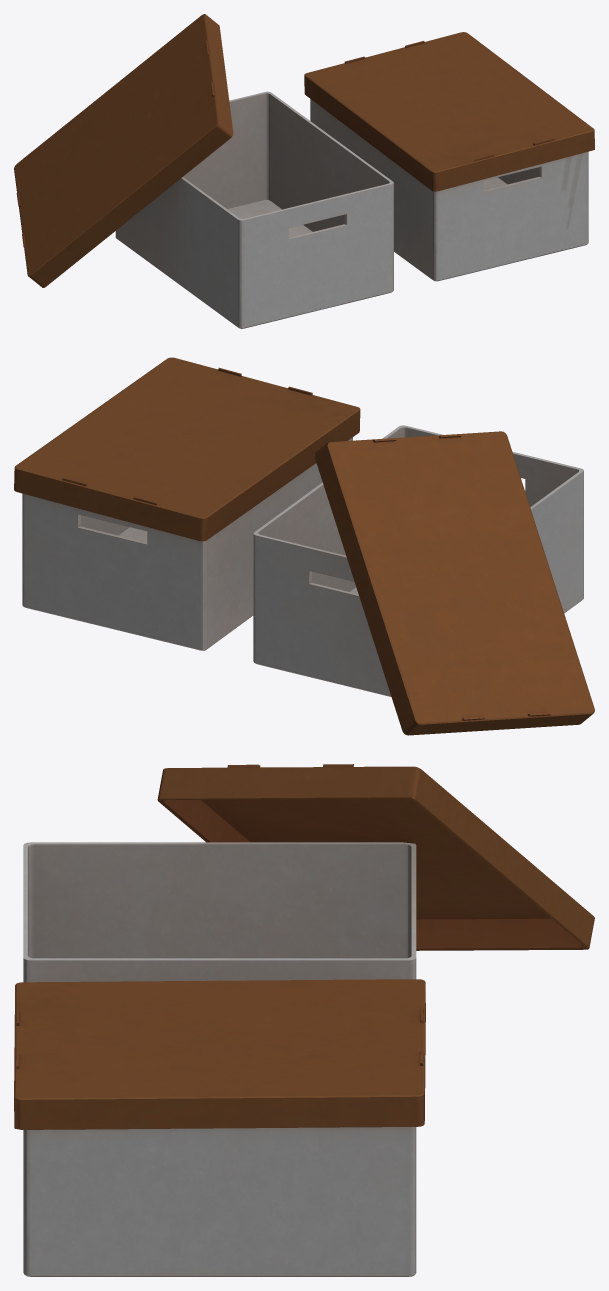
File: postcard-boxes.glb
3 renders of one model, top to bottom at view 1: azimuth 30°, elevation 25°; view 2: azimuth 150°, elevation 25°; view 3: azimuth 270°, elevation 25°, orthographic. The views are drawn at different scales.
Parts seen in each view (by area): view 1: pCube4, pCube2, pCube1; view 2: pCube4, pCube1, pCube2; view 3: pCube4, pCube2, pCube1.
Boxes of the visible parts, x1,y1,x2,y2 form: pCube4: [304, 32, 594, 281]; pCube2: [115, 91, 393, 328]; pCube1: [14, 14, 233, 287]; pCube4: [14, 357, 360, 650]; pCube1: [315, 431, 594, 735]; pCube2: [253, 425, 583, 696]; pCube4: [14, 979, 425, 1276]; pCube2: [23, 842, 416, 982]; pCube1: [157, 764, 594, 950].
Bounding box in the file's own units: 0.2638 × 0.1139 × 0.184.
2 materials, 2 textured.
